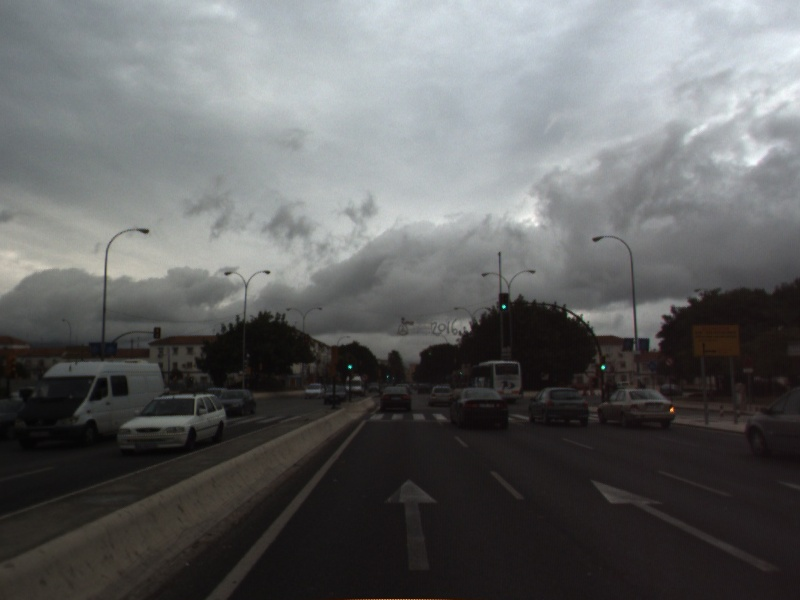STRAIGHT: (588, 477, 782, 574), (381, 476, 441, 574)
